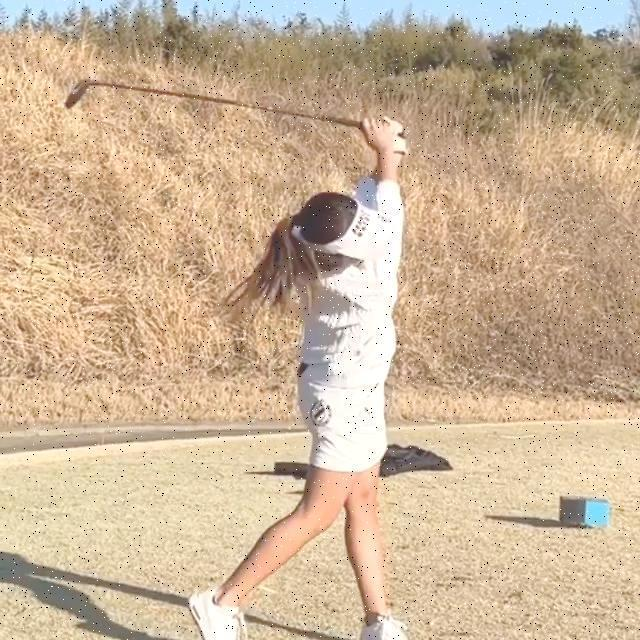ClubHead: (64, 79, 90, 109)
